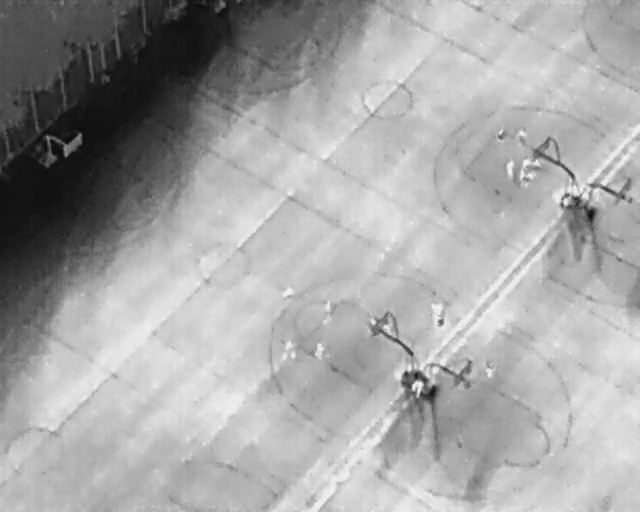Person: (407, 377, 427, 401), (280, 339, 297, 361), (431, 302, 445, 328), (517, 171, 534, 191), (277, 284, 295, 300), (312, 341, 326, 361), (528, 156, 542, 174), (485, 360, 496, 379), (520, 156, 533, 172), (495, 126, 508, 140), (518, 129, 528, 147), (506, 159, 514, 179), (324, 299, 334, 314)
